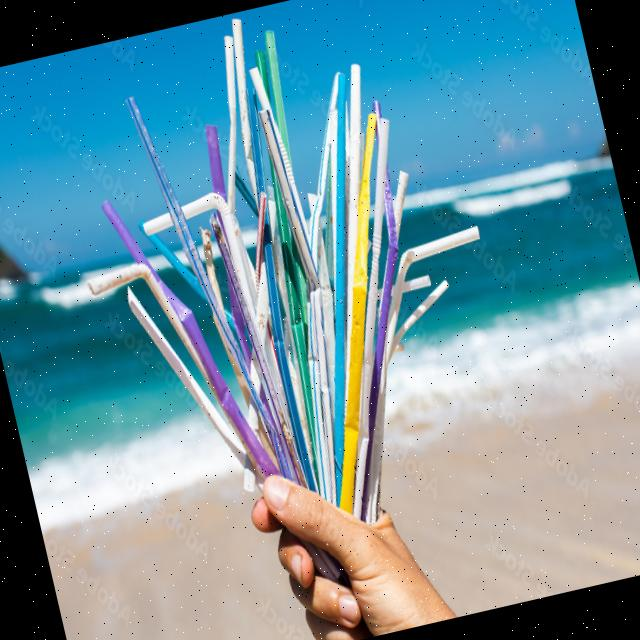plastic: (116, 59, 284, 470)
